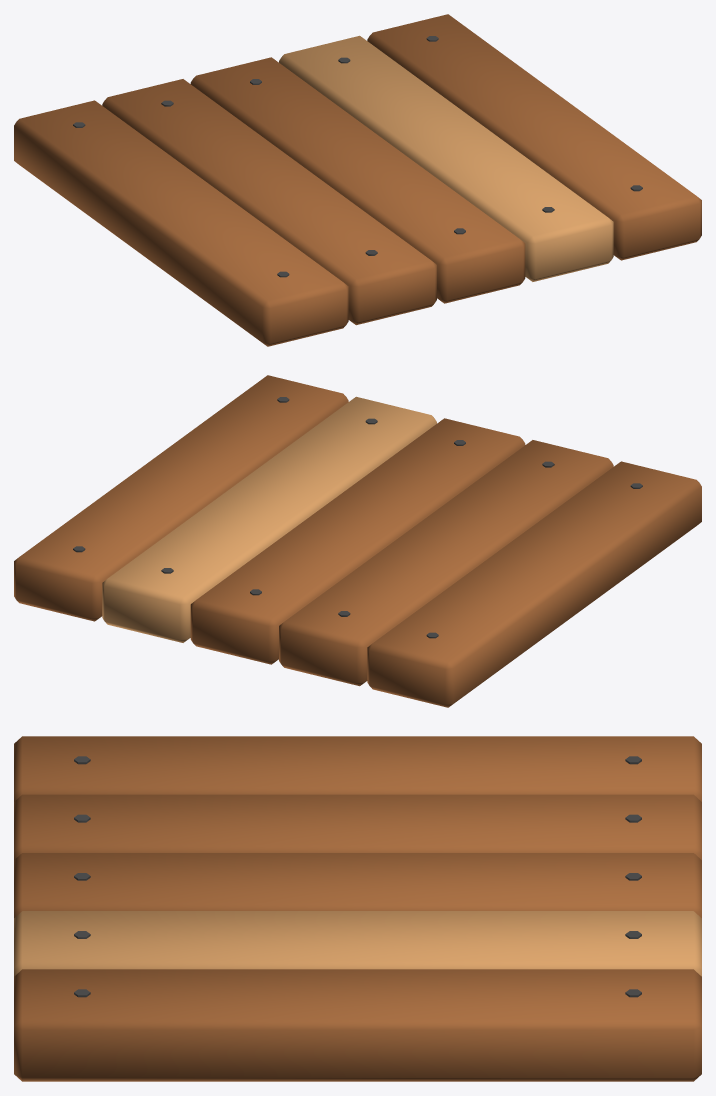
Rendered from piso_tabuas.glb.
3 renders of one model, top to bottom at view 1: azimuth 30°, elevation 25°; view 2: azimuth 150°, elevation 25°; view 3: azimuth 270°, elevation 25°, orthographic. The views are drawn at different scales.
Parts seen in each view (by area): view 1: Piso_Tabuas; view 2: Piso_Tabuas; view 3: Piso_Tabuas.
Part boxes in pixels (x1,y1,x2,y2): Piso_Tabuas: (14,14,701,346); Piso_Tabuas: (14,375,701,707); Piso_Tabuas: (14,736,701,1081).
Bounding box in the file's own units: 0.995 × 0.103 × 0.998.
